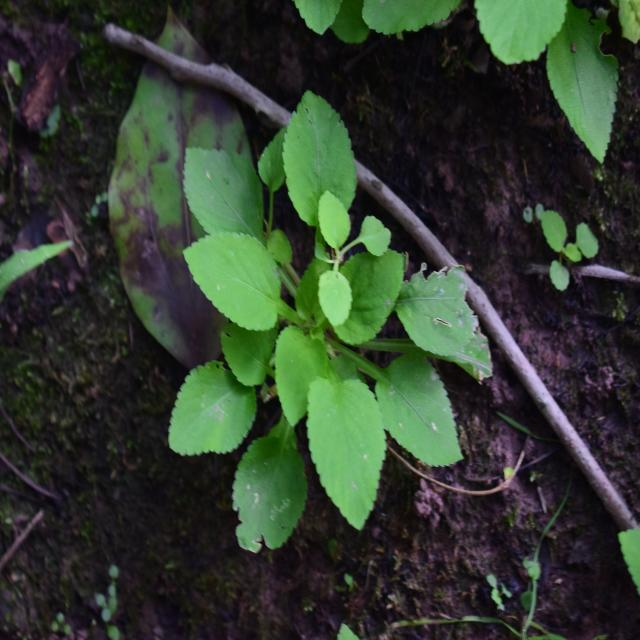Viola: (157, 92, 493, 519)
